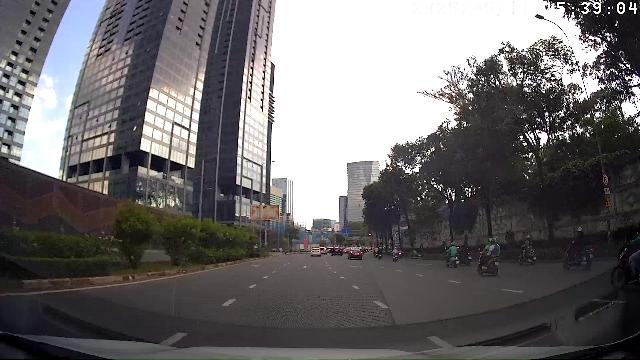103b-cam-oto-re-phai: (601, 173, 609, 186)
